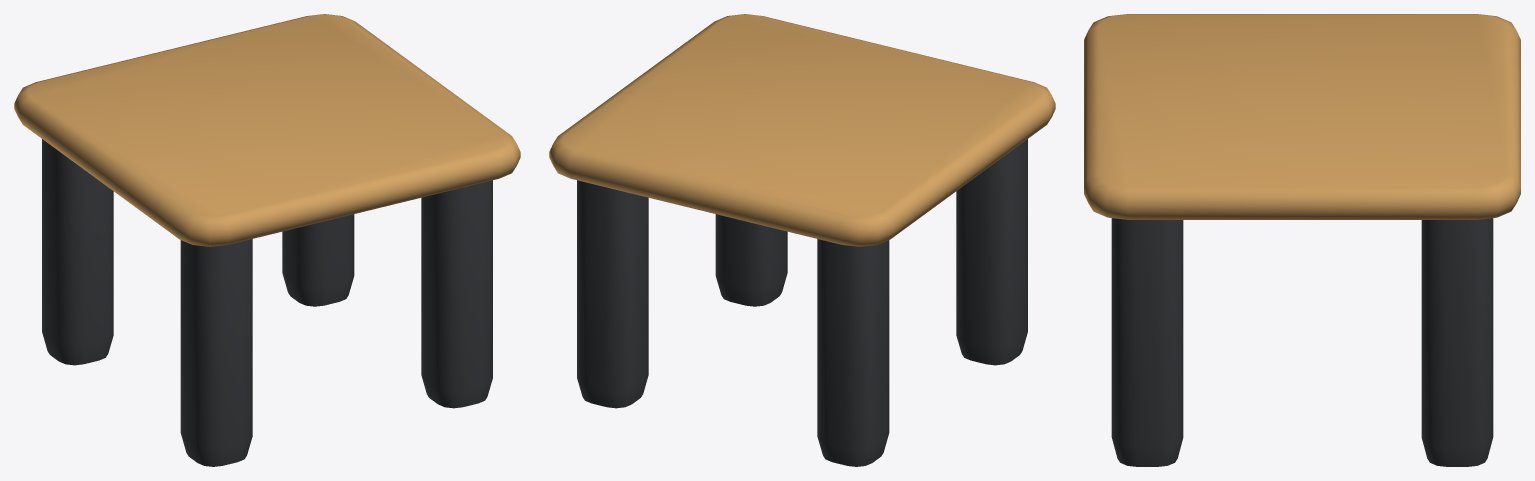
The model's file is table_basse_petite.glb.
The picture shows the model from 3 angles, left to right: view 1: azimuth 30°, elevation 25°; view 2: azimuth 150°, elevation 25°; view 3: azimuth 270°, elevation 25°; orthographic projection. The views are drawn at different scales.
Visible parts, largest first — view 1: TBP_Bois, TBP_Anthracite; view 2: TBP_Bois, TBP_Anthracite; view 3: TBP_Bois, TBP_Anthracite.
Part boxes in pixels (box(x1,y1,x2,y2)): TBP_Bois: box(14, 14, 520, 246); TBP_Anthracite: box(42, 139, 492, 466); TBP_Bois: box(549, 14, 1055, 246); TBP_Anthracite: box(577, 139, 1027, 466); TBP_Bois: box(1084, 14, 1520, 219); TBP_Anthracite: box(1111, 218, 1493, 466).
Bounding box in the file's own units: 0.55 × 0.4 × 0.55.
